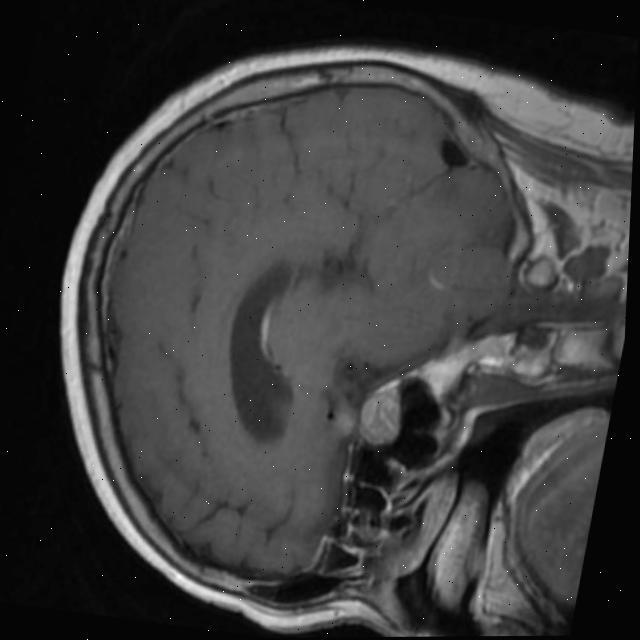Pituitary: (354, 382, 408, 448)
